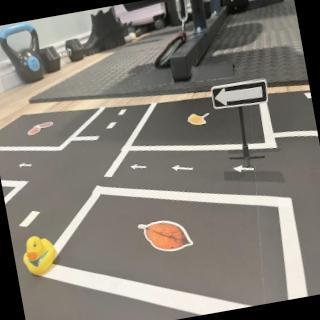duck_regular: (19, 235, 63, 283)
road_oneway: (168, 160, 198, 180), (128, 160, 152, 176), (233, 161, 257, 177), (18, 161, 36, 173)
sign_oneway_left: (211, 77, 272, 114)
